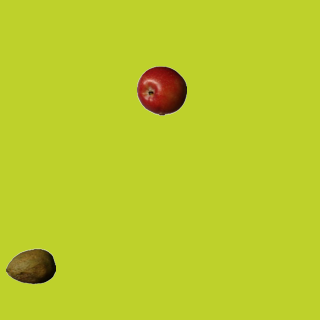Apple Braeburn: (136, 65, 186, 115)
Papaya: (5, 241, 55, 291)
